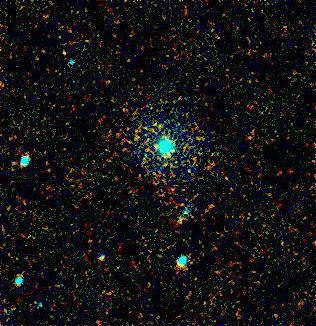star: (93, 68, 123, 98)
